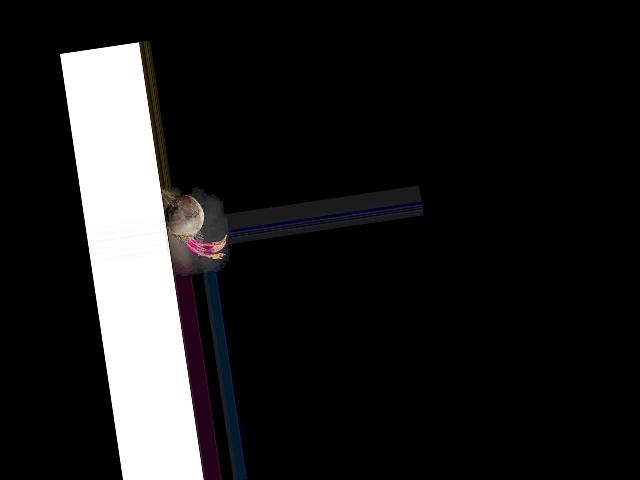beet: (160, 179, 229, 265)
